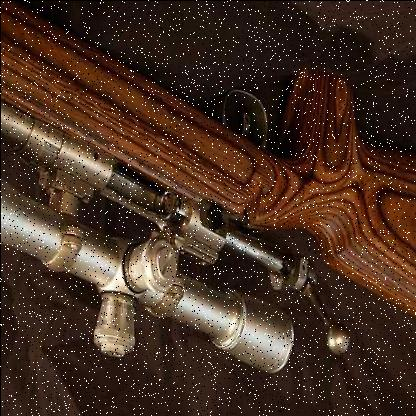rifle: (1, 51, 416, 389)
